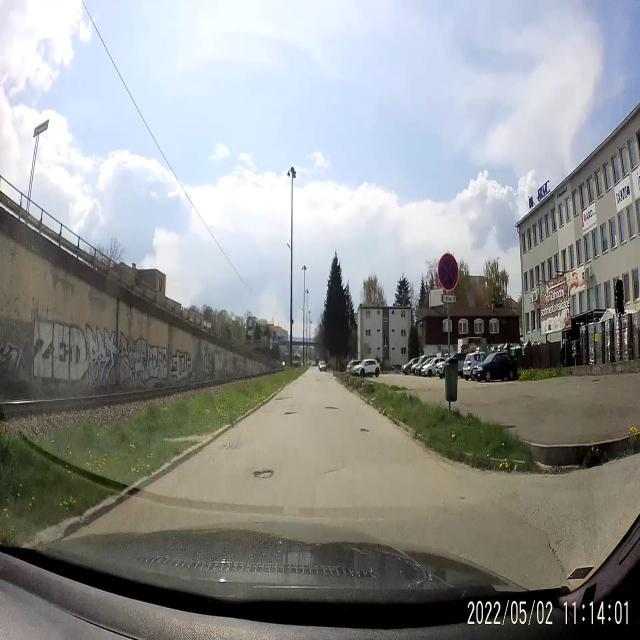Manhole: (215, 441, 250, 454)
Pothole: (247, 466, 279, 484), (280, 406, 301, 426), (271, 392, 295, 404), (354, 426, 372, 436), (324, 403, 341, 413)
